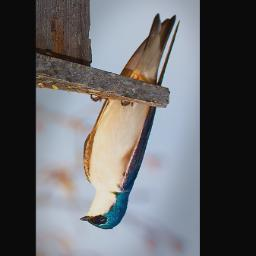Swallow: (79, 12, 181, 231)
